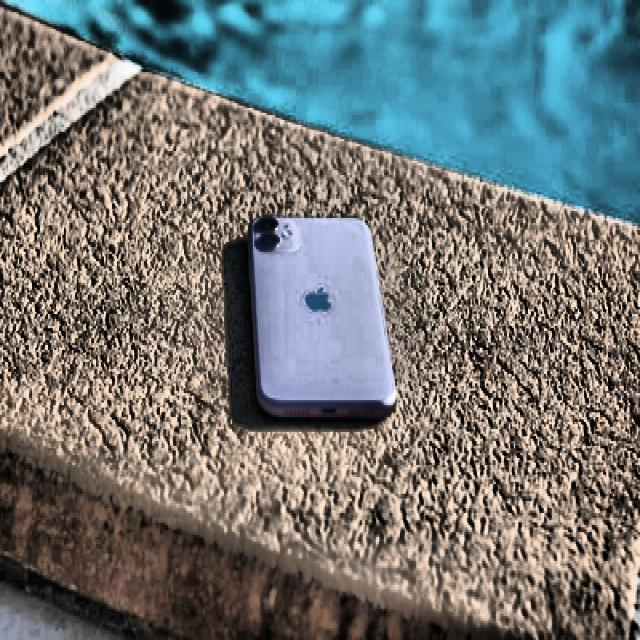Phone: (246, 216, 397, 420)
